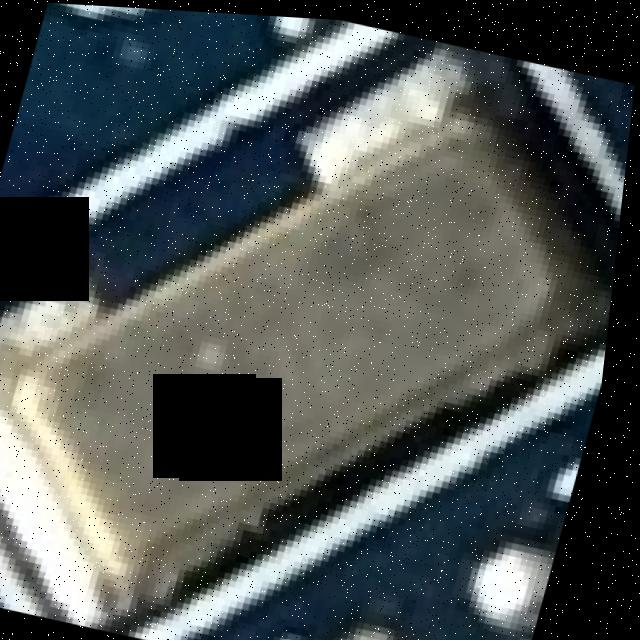clock Q1: (0, 50, 616, 610)
